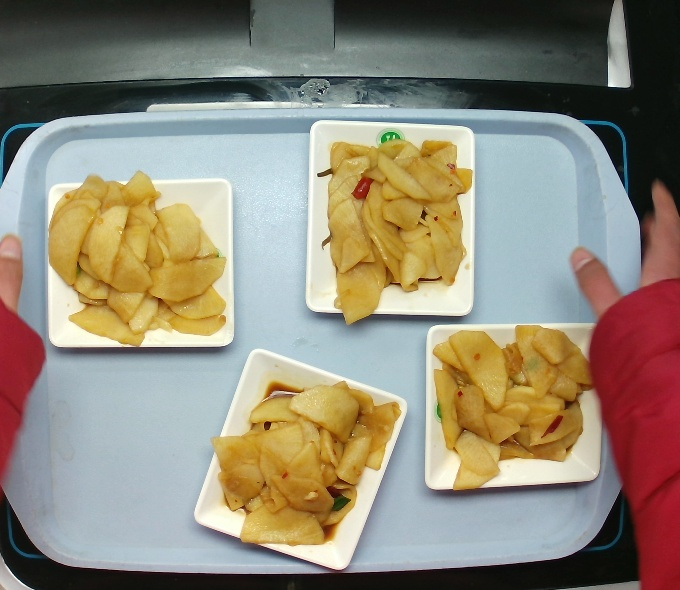wcq-YanLuoBo: (47, 165, 229, 356), (303, 129, 479, 317), (222, 368, 384, 559), (424, 320, 595, 486)
